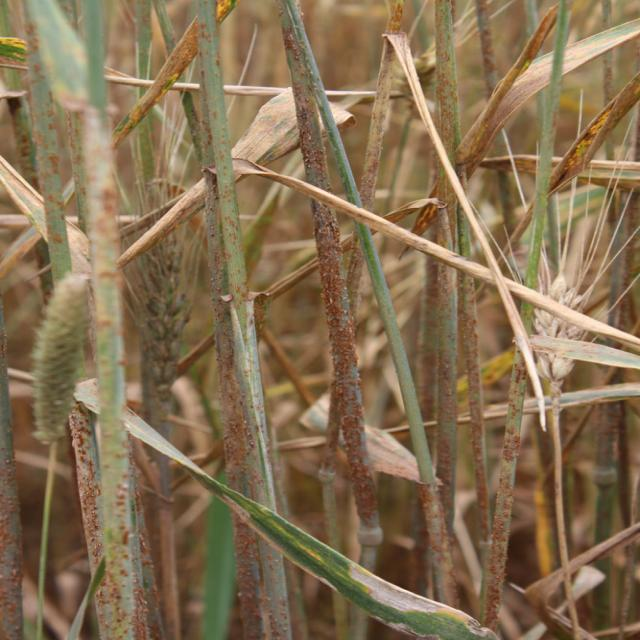wheat-stemrust: (208, 166, 283, 515), (311, 202, 376, 525), (69, 406, 156, 640), (274, 0, 328, 191), (233, 513, 289, 640)
